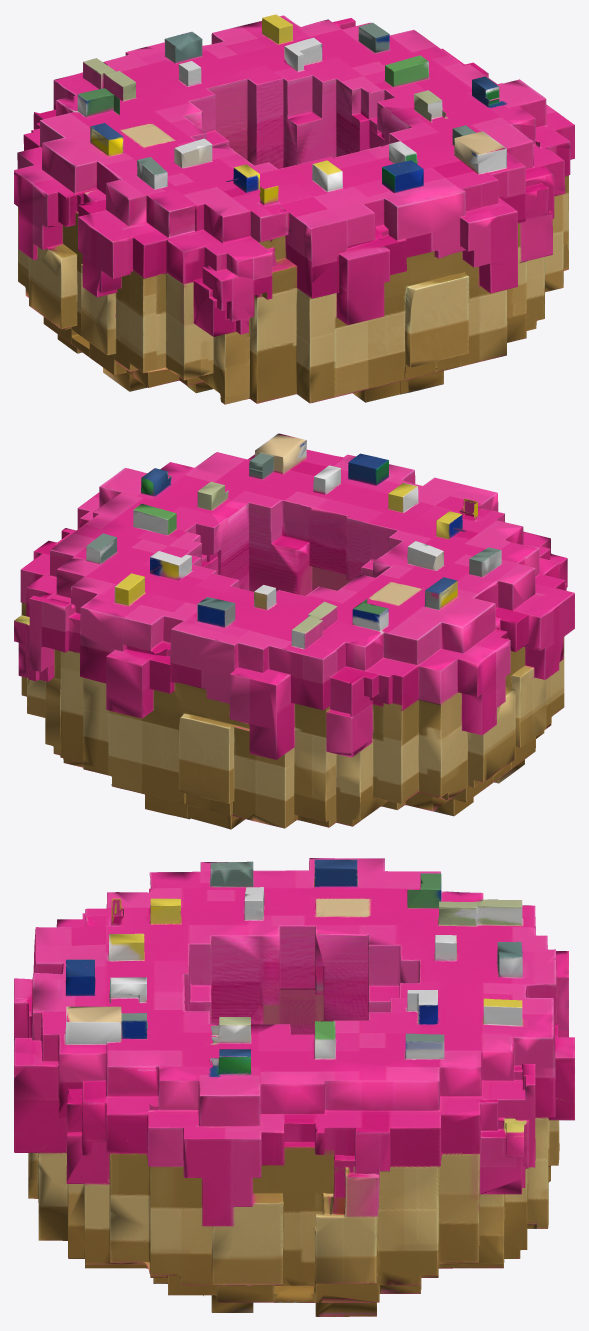
The model's file is Donut.fbx.
3 views of the same model, one above another, from view 1: azimuth 30°, elevation 25°; view 2: azimuth 150°, elevation 25°; view 3: azimuth 270°, elevation 25° (orthographic). The views are drawn at different scales.
Parts seen in each view (by area): view 1: Mesh_0; view 2: Mesh_0; view 3: Mesh_0.
Boxes of the visible parts, x1=… form: Mesh_0: x1=14, y1=14, x2=574, y2=404; Mesh_0: x1=14, y1=433, x2=574, y2=829; Mesh_0: x1=14, y1=858, x2=574, y2=1316.
Bounding box in the file's own units: 190 × 83.32 × 172.
1 material, 1 textured.
